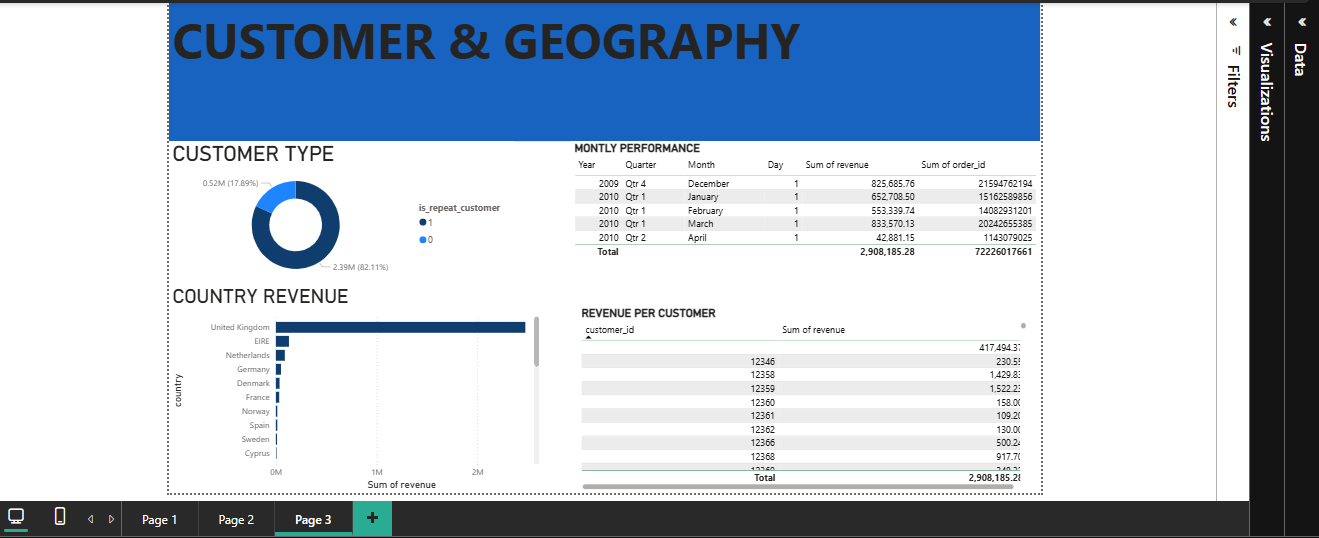

The dashboard page shown, as its layout file describes it:
{"tool":"powerbi","page":{"name":"Page 3","canvas":[1280,720],"ordinal":2},"visuals":[{"type":"textbox","box":[10,0,280,280],"z":0},{"type":"textbox","box":[0,0,1280,203.3],"z":1000},{"type":"donutChart","title":"CUSTOMER TYPE","fields":{"Category":["Sheet1.is_repeat_customer"],"Y":["Sum(Sheet1.revenue)"]},"box":[0,203.3,507.3,211.7],"z":2000},{"type":"clusteredBarChart","title":"COUNTRY REVENUE","fields":{"Category":["Sheet1.country"],"Y":["Sum(Sheet1.revenue)"]},"box":[0,414.9,549.3,305.7],"z":3000},{"type":"tableEx","title":"MONTLY PERFORMANCE","fields":{"Values":["Sheet1.order_month.Variation.Date Hierarchy.Year","Sheet1.order_month.Variation.Date Hierarchy.Quarter","Sheet1.order_month.Variation.Date Hierarchy.Month","Sheet1.order_month.Variation.Date Hierarchy.Day","Sum(Sheet1.revenue)","Sum(Sheet1.order_id)"]},"box":[591.3,203.3,688.7,235.2],"z":4000},{"type":"tableEx","title":"REVENUE PER CUSTOMER","fields":{"Values":["Sheet1.customer_id","Sum(Sheet1.revenue)"]},"box":[601,445.2,664.2,274.8],"z":5000}]}

Visuals, with their boxes on the page's 1280x720 design canvas (x1, y1, x2, y2). These are canvas units, not pixel positions in the 1319x538 screenshot, which may show the page scaled, cropped or inside an application window:
textbox: locate(10, 0, 290, 280)
textbox: locate(0, 0, 1280, 203)
"CUSTOMER TYPE" donutChart: locate(0, 203, 507, 415)
"COUNTRY REVENUE" clusteredBarChart: locate(0, 415, 549, 721)
"MONTLY PERFORMANCE" tableEx: locate(591, 203, 1280, 438)
"REVENUE PER CUSTOMER" tableEx: locate(601, 445, 1265, 720)
